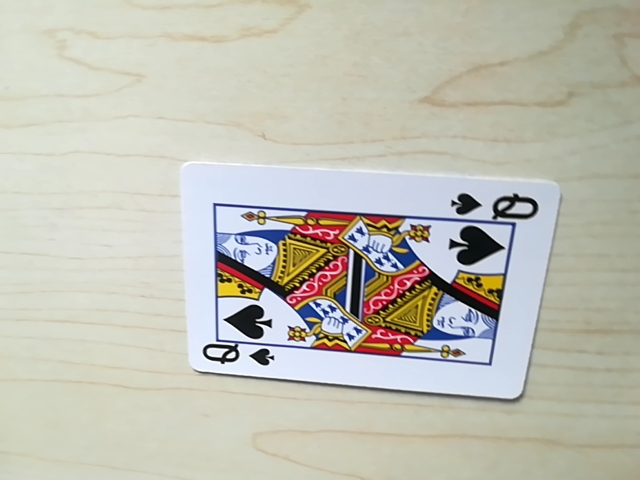ht q: (451, 189, 545, 223), (197, 339, 275, 373)
